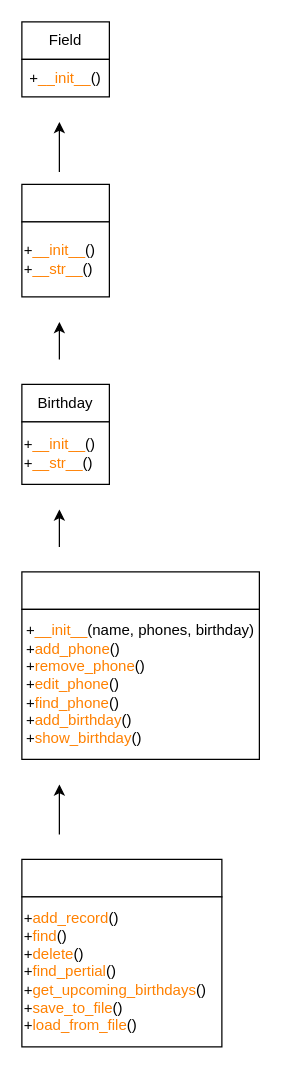
Image size: 281x1069. Some labels were removed from this diagram. Here are the shapes that lost their labels. From the top down, the box of each, then its label:
(21, 183, 109, 222): Name
(21, 571, 259, 609): Record
(21, 858, 222, 897): AdressBook
